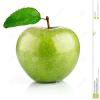Apple leaf: (3, 6, 42, 30)
